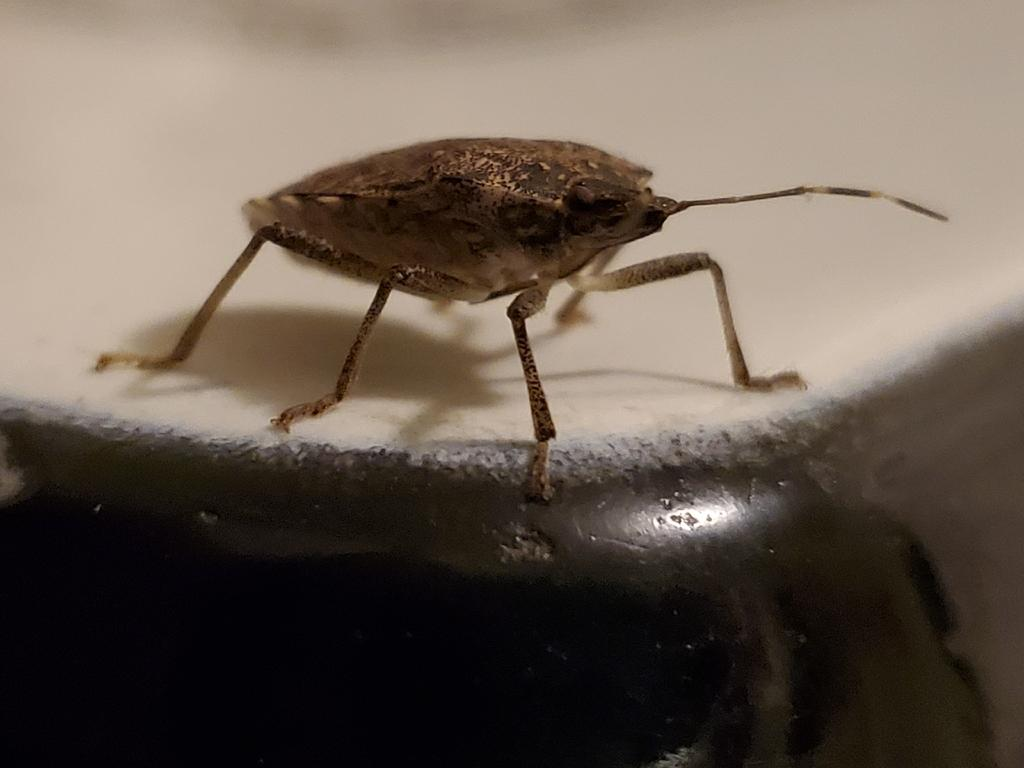stink_bugs: (52, 71, 1013, 564)
